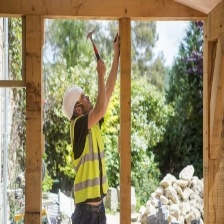helmet: (62, 83, 88, 124)
person: (61, 82, 111, 224)
vest: (69, 115, 108, 207)
